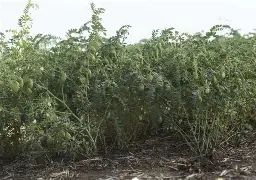crops: (0, 2, 253, 162), (219, 70, 256, 136), (175, 111, 218, 156), (17, 0, 39, 33)
